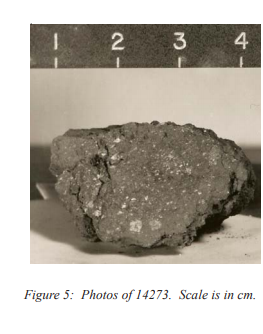Breccia: (47, 111, 256, 255), (72, 150, 221, 221)
